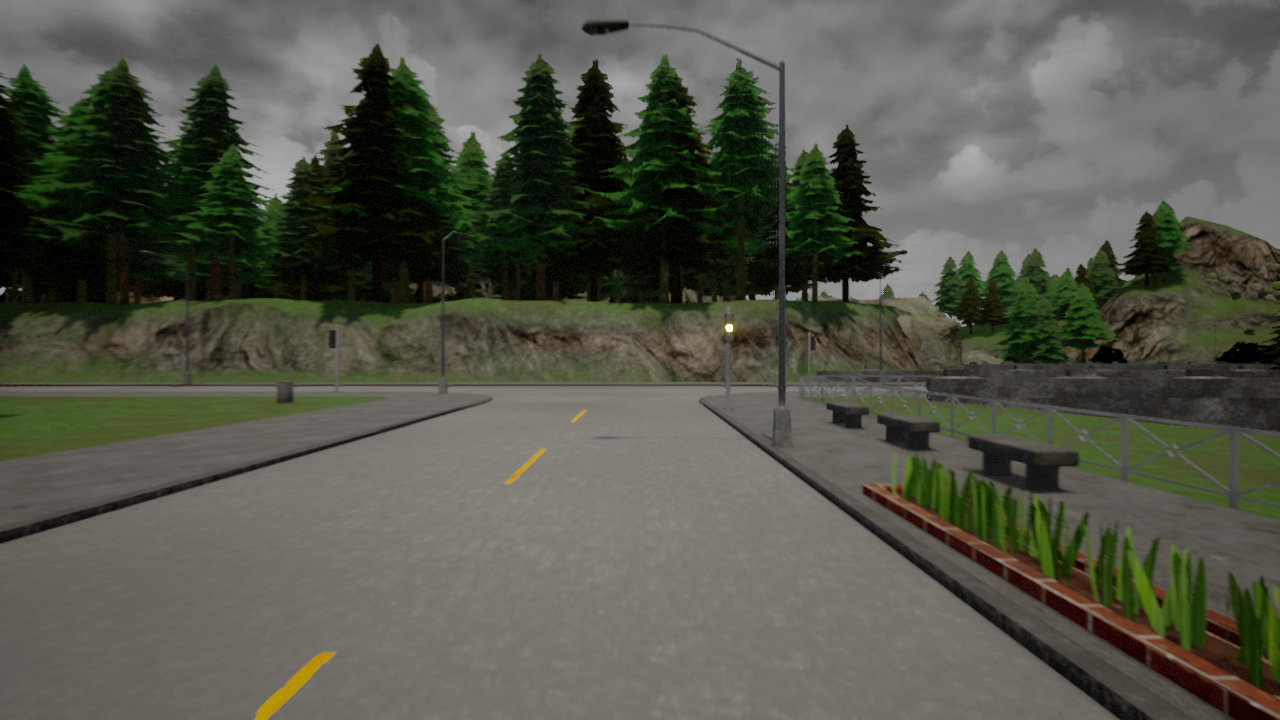yellow: (722, 313, 735, 343)
